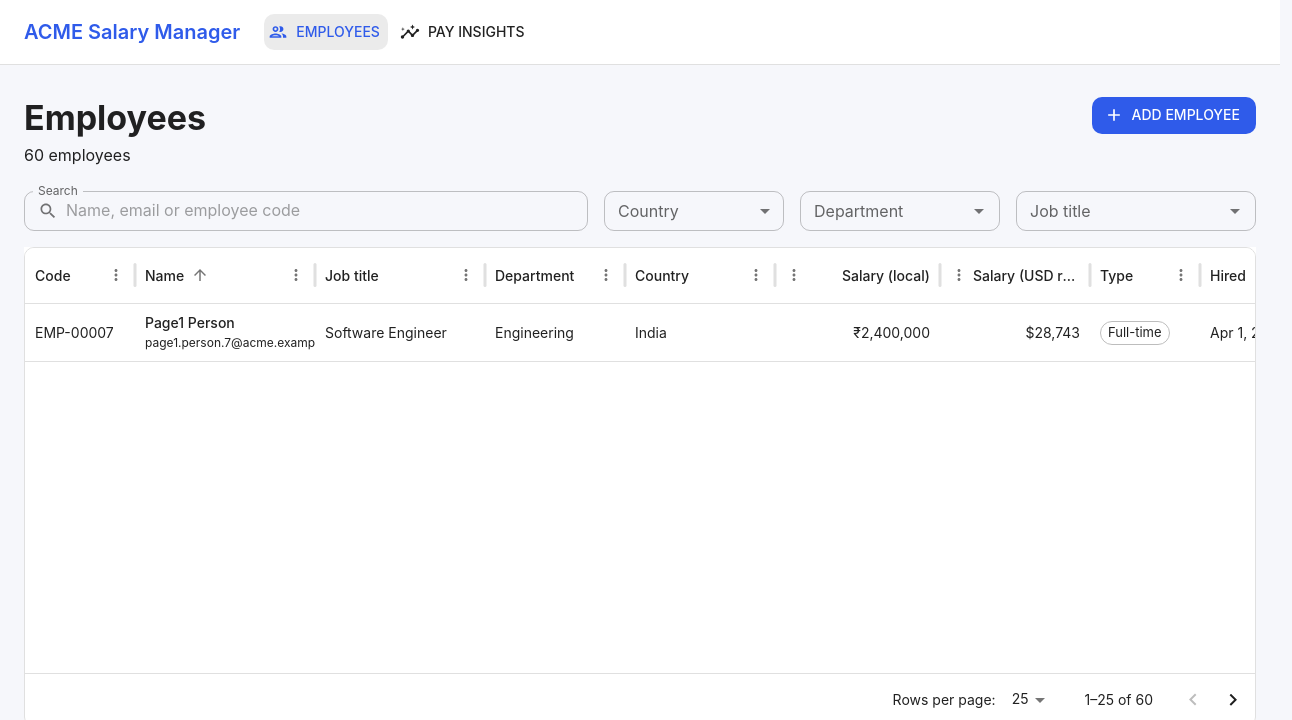
EmployeesPage › moves to the next page and shows its rows
Check: the text "Page1 Person" is shown, box [145,314,235,331]
Click the button named "next page". click: x=1233, y=700
box: [1213,680,1253,719]
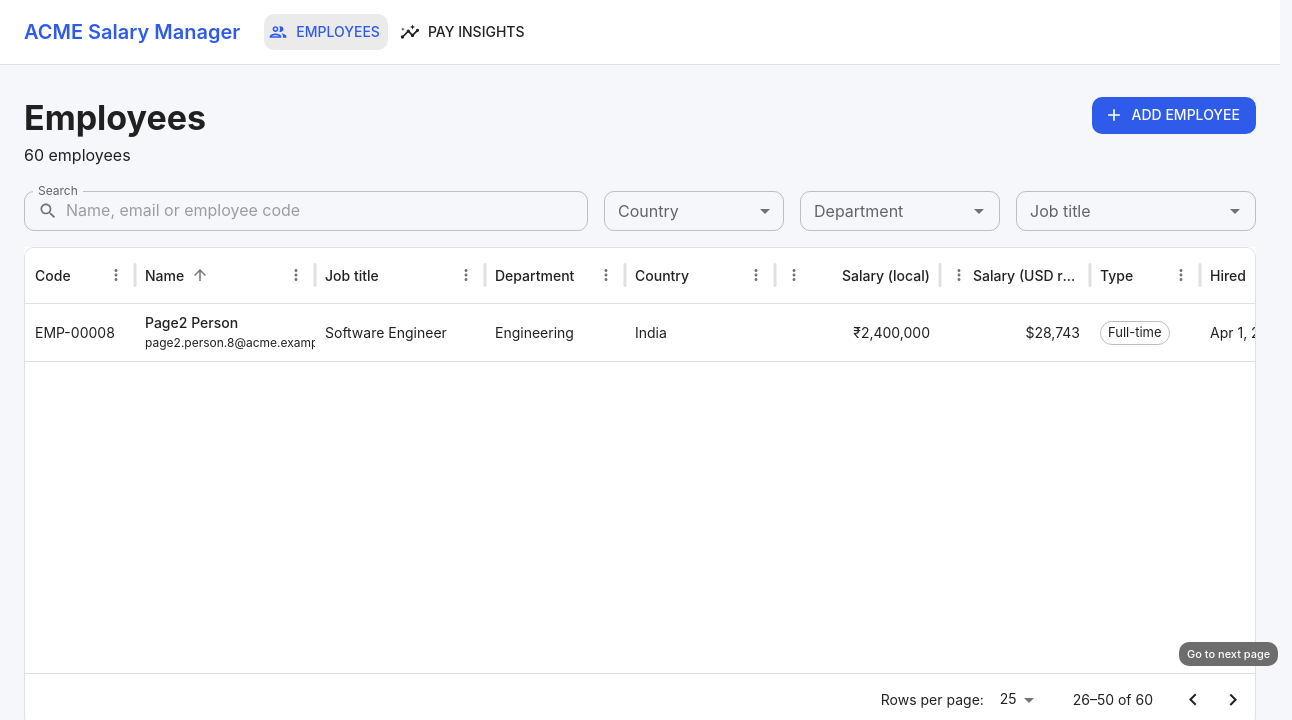
Check: the text "Page2 Person" is shown, box [145,314,238,331]
Check: the text "Page1 Person" is gone
Check: the text "26–50 of 60" is shown, box [1073,690,1153,710]
